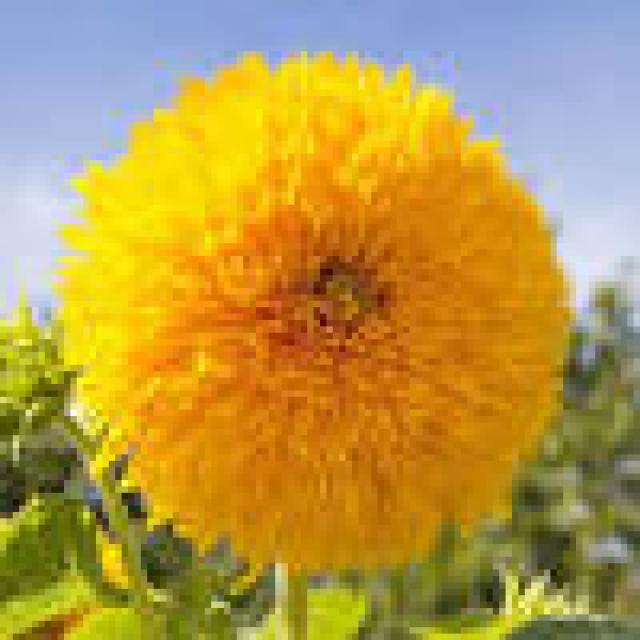sunflower: (31, 39, 585, 584)
